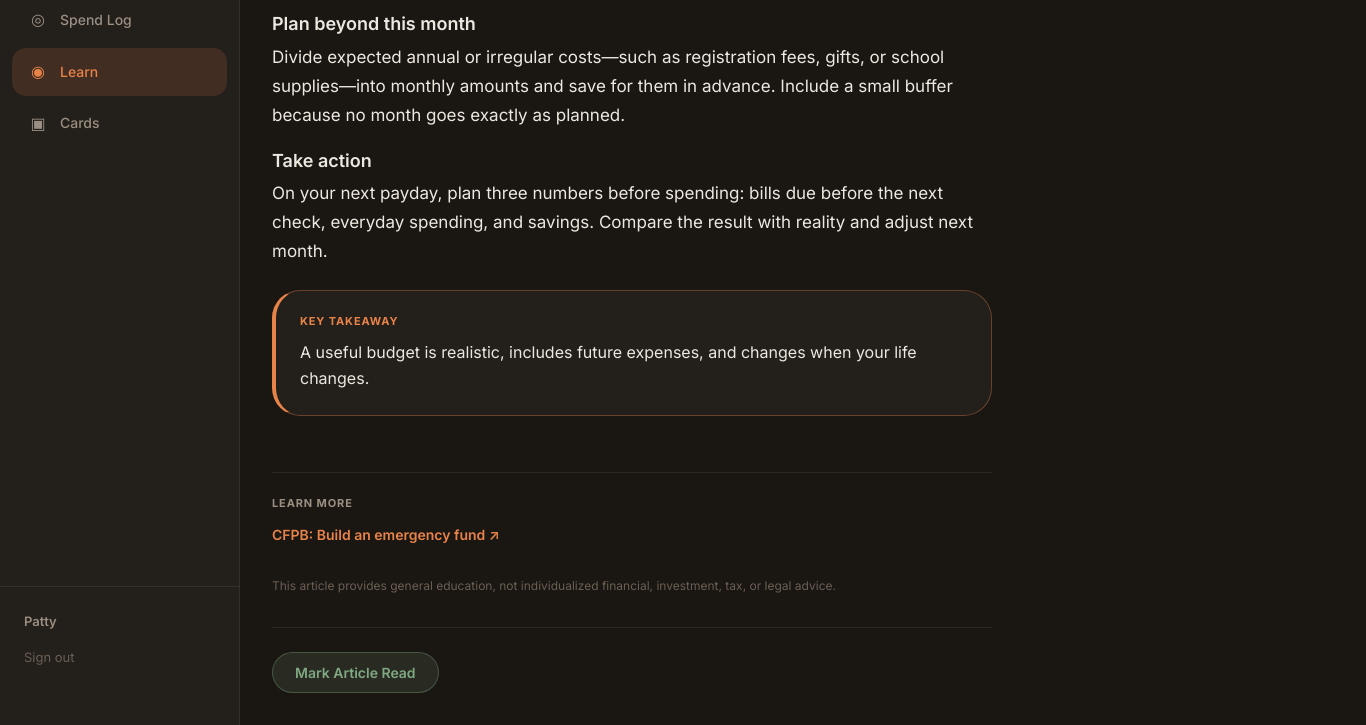
Test: YoungMoney Main App Pages › persists article read status via API
The image size is (1366, 725).
(page scrolled)
Click the button "Mark Article Read". click: (356, 673)
box: [272,652,439,693]
(page scrolled)
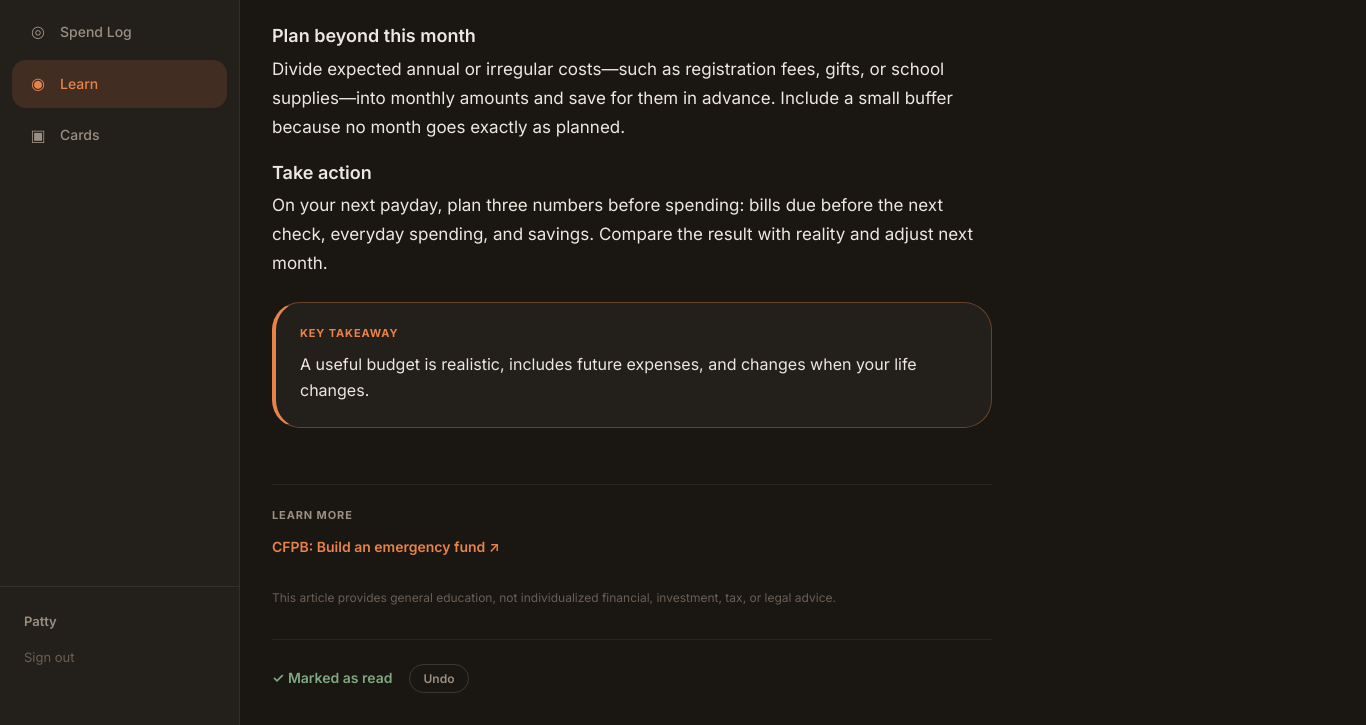
Check: the text "Marked as read" is shown, box [272,669,393,686]
